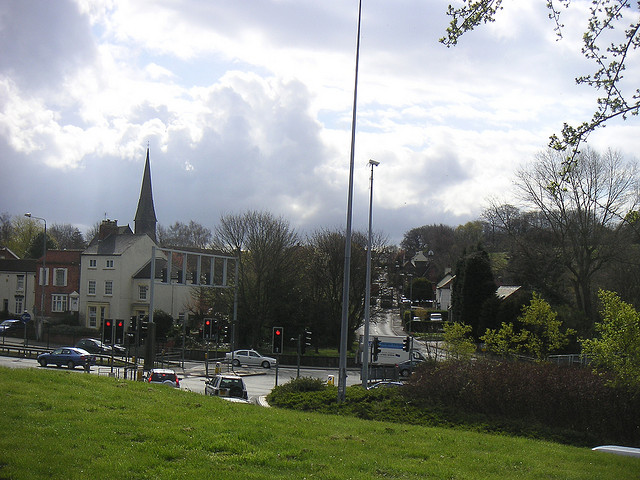Car: (33, 342, 94, 373), (148, 370, 177, 388)
Traffic light: (268, 322, 285, 365), (197, 315, 212, 355), (100, 318, 115, 353), (371, 333, 384, 369), (397, 335, 413, 357)
